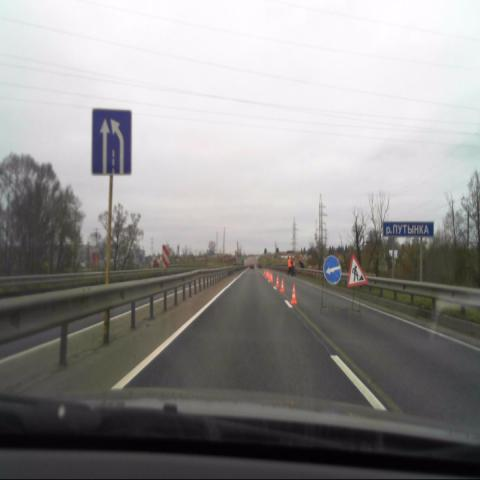4_1_2_2: (322, 255, 342, 286)
5_15_5: (91, 108, 131, 176)
